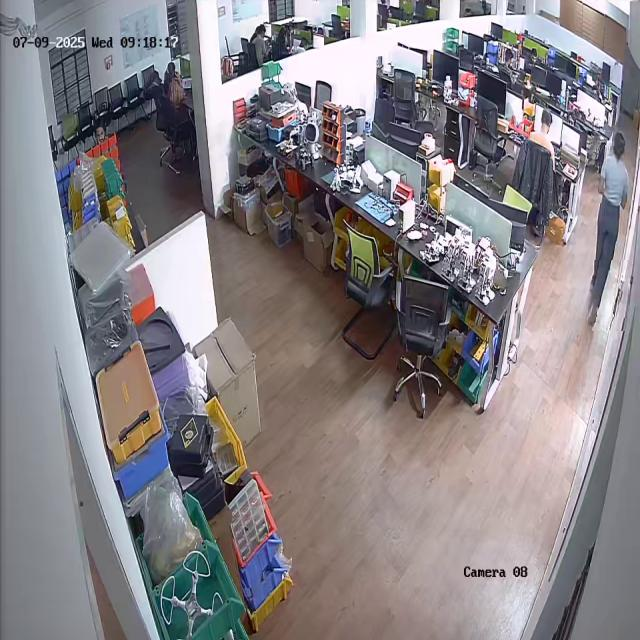person: (588, 132, 631, 332)
